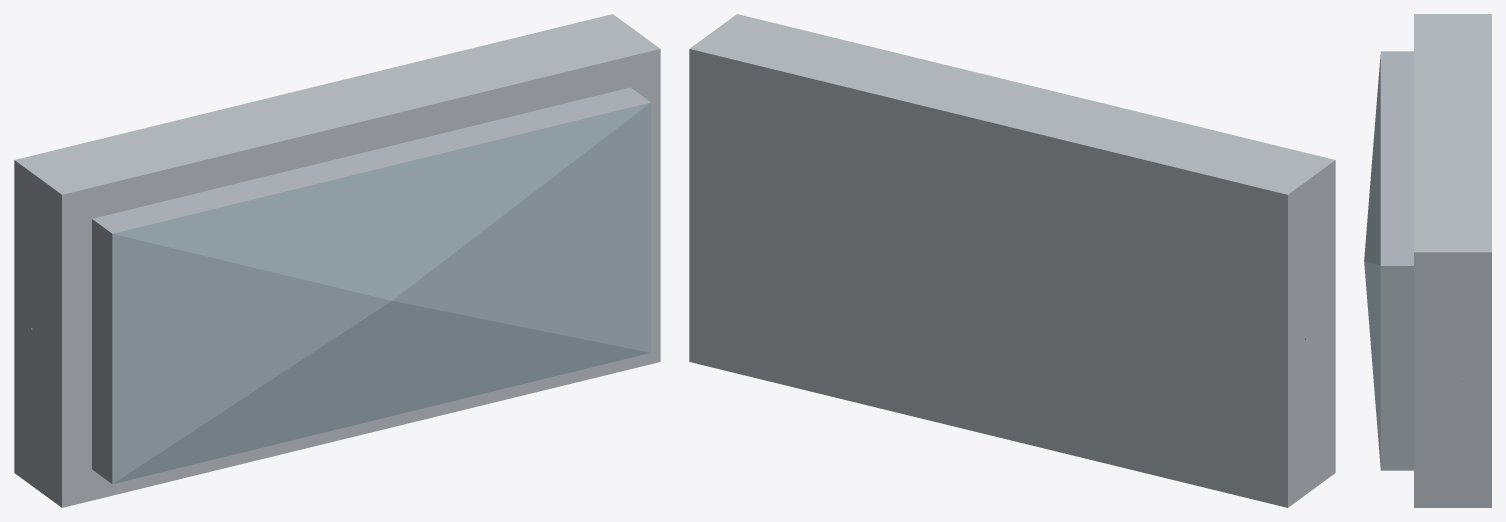
The model's file is prism_gateway_hq.glb.
The picture shows the model from 3 angles, left to right: view 1: azimuth 30°, elevation 25°; view 2: azimuth 150°, elevation 25°; view 3: azimuth 270°, elevation 25°; orthographic projection. The views are drawn at different scales.
Visible parts, largest first — view 1: crown, lower, upper; view 2: lower; view 3: lower, upper, crown.
Boxes of the visible parts, x1,y1,x2,y2 form: crown: [112, 102, 650, 484]; lower: [14, 14, 660, 507]; upper: [92, 87, 650, 483]; lower: [689, 14, 1335, 507]; lower: [1414, 14, 1491, 507]; upper: [1380, 51, 1413, 470]; crown: [1364, 55, 1380, 466].
Bounding box in the file's own units: 91.6 × 45.7 × 20.7.
